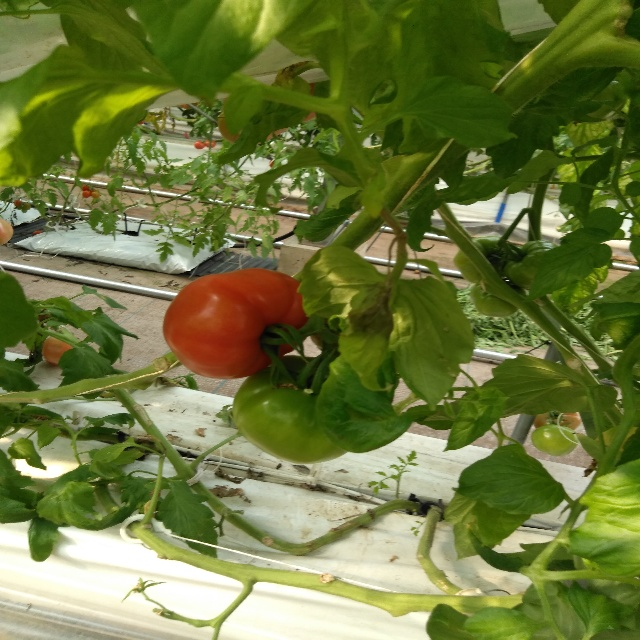b_fully_ripened: (162, 268, 311, 380)
b_green: (233, 355, 348, 465), (453, 237, 517, 283), (504, 240, 564, 288), (470, 274, 526, 317), (531, 425, 579, 456)
